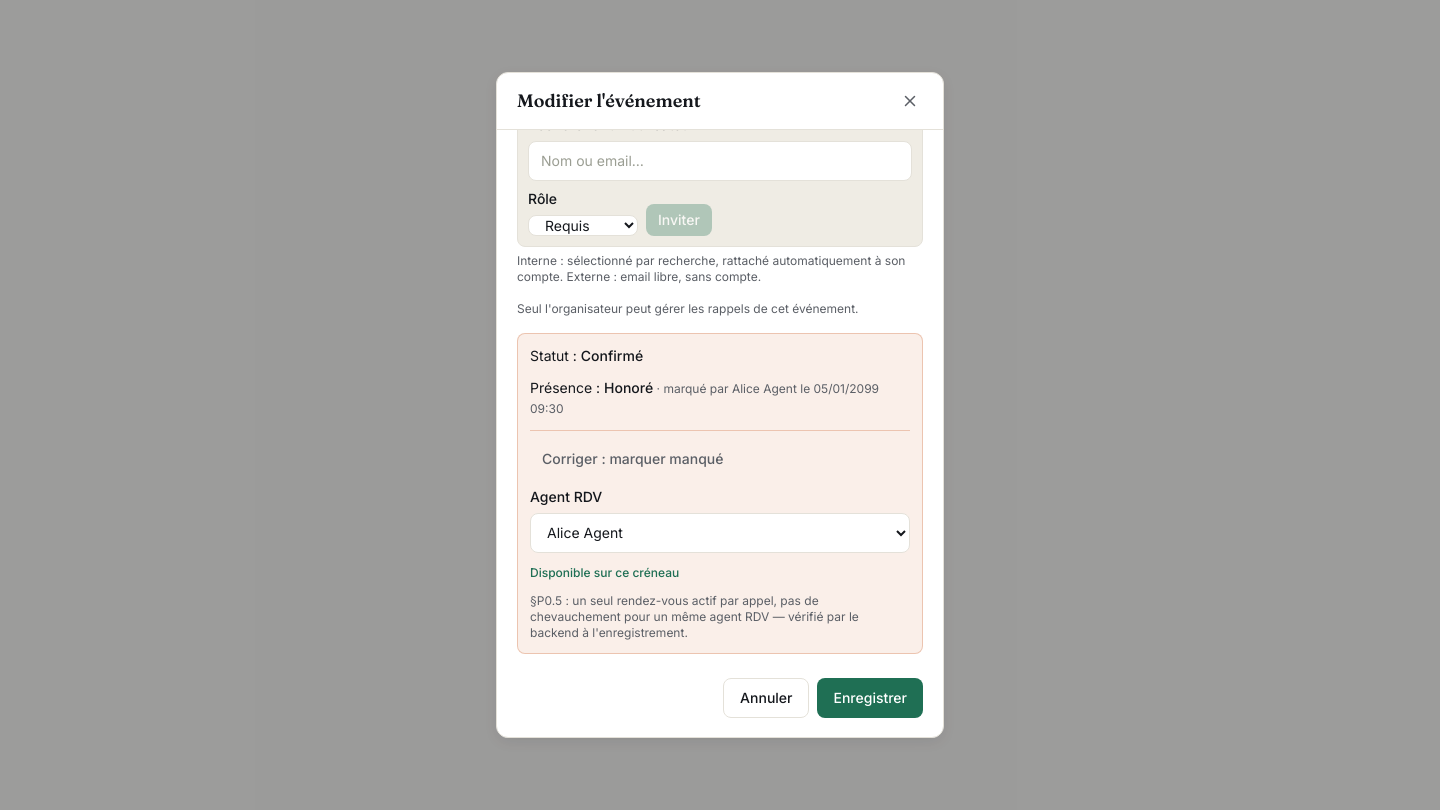
Test: suivi honoré/manqué — EventPanel › RDV marqué honoré : ligne d'état complète + correction vers manqué
(page scrolled)
Click the button "Corriger : marquer manqué" at (633, 459), box [530, 443, 736, 475]
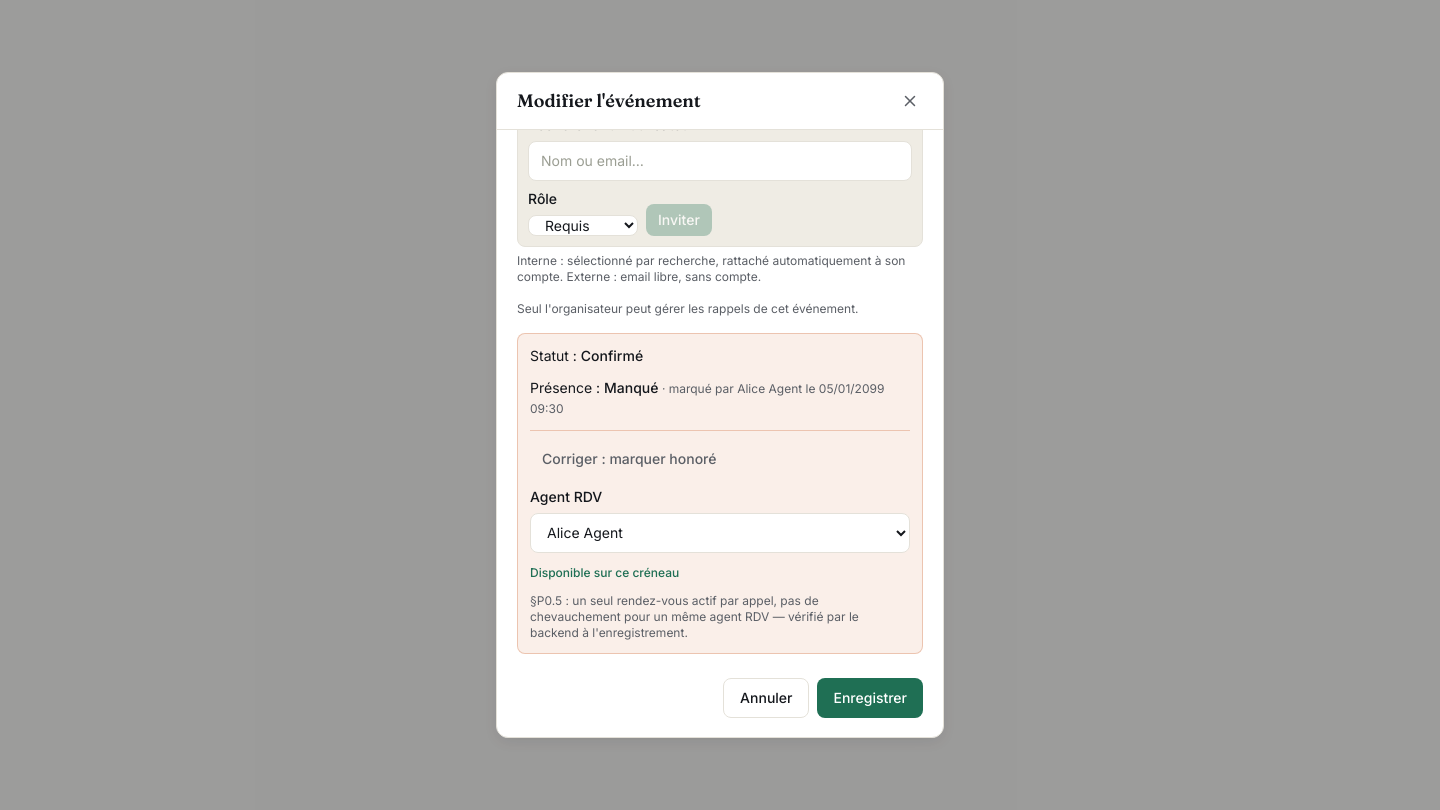
Result: the button "Corriger : marquer honoré" is shown at [530, 443, 728, 475]
